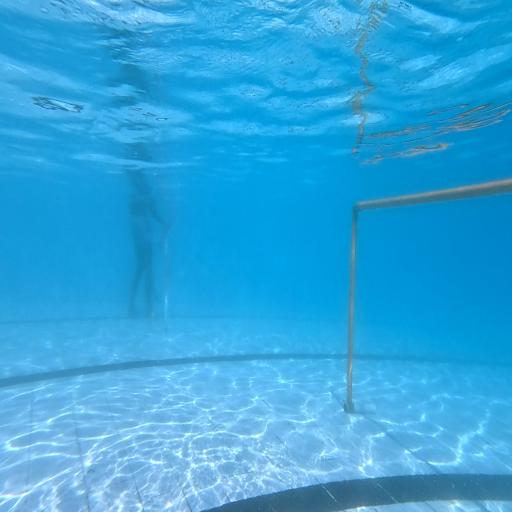gate: (343, 178, 512, 413)
